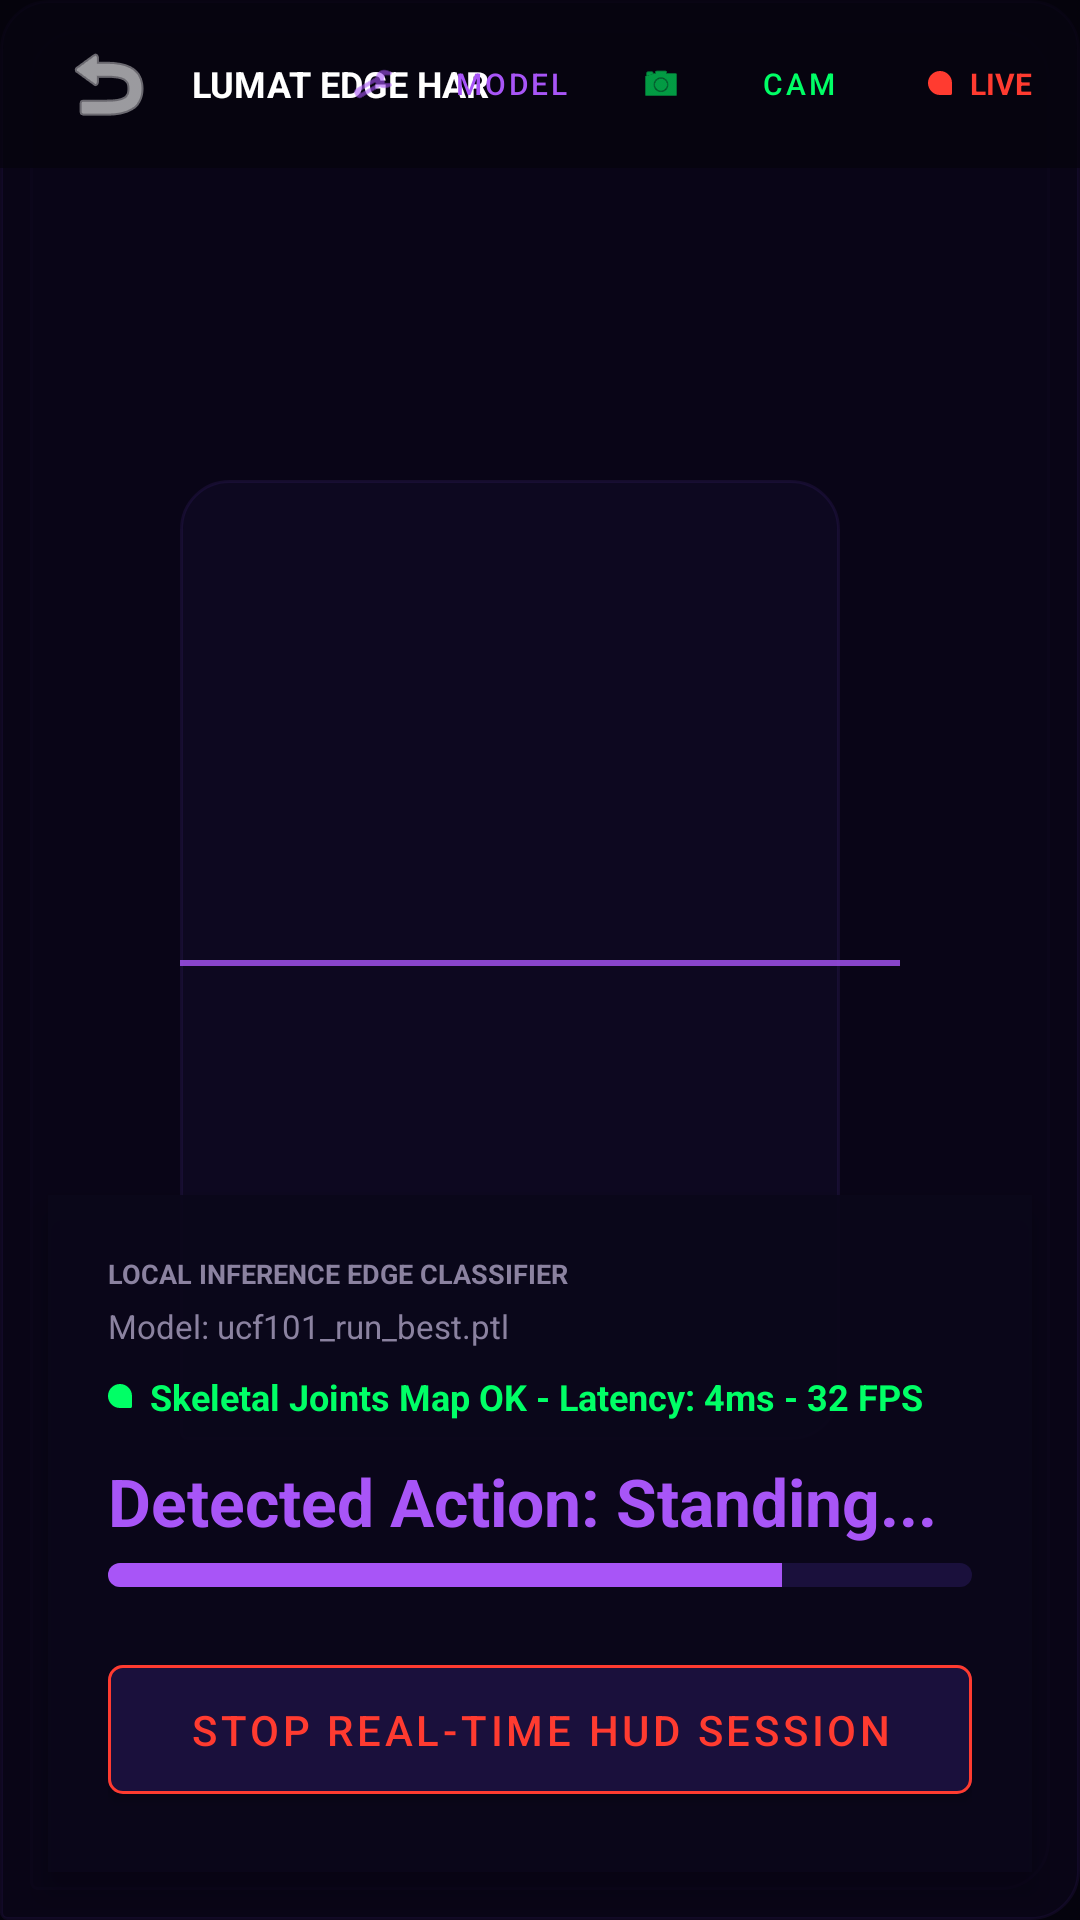

Screen size 1080 x 1920. Icon name, then its center in pixels as point (x, y):
Exit: point (109, 84)
